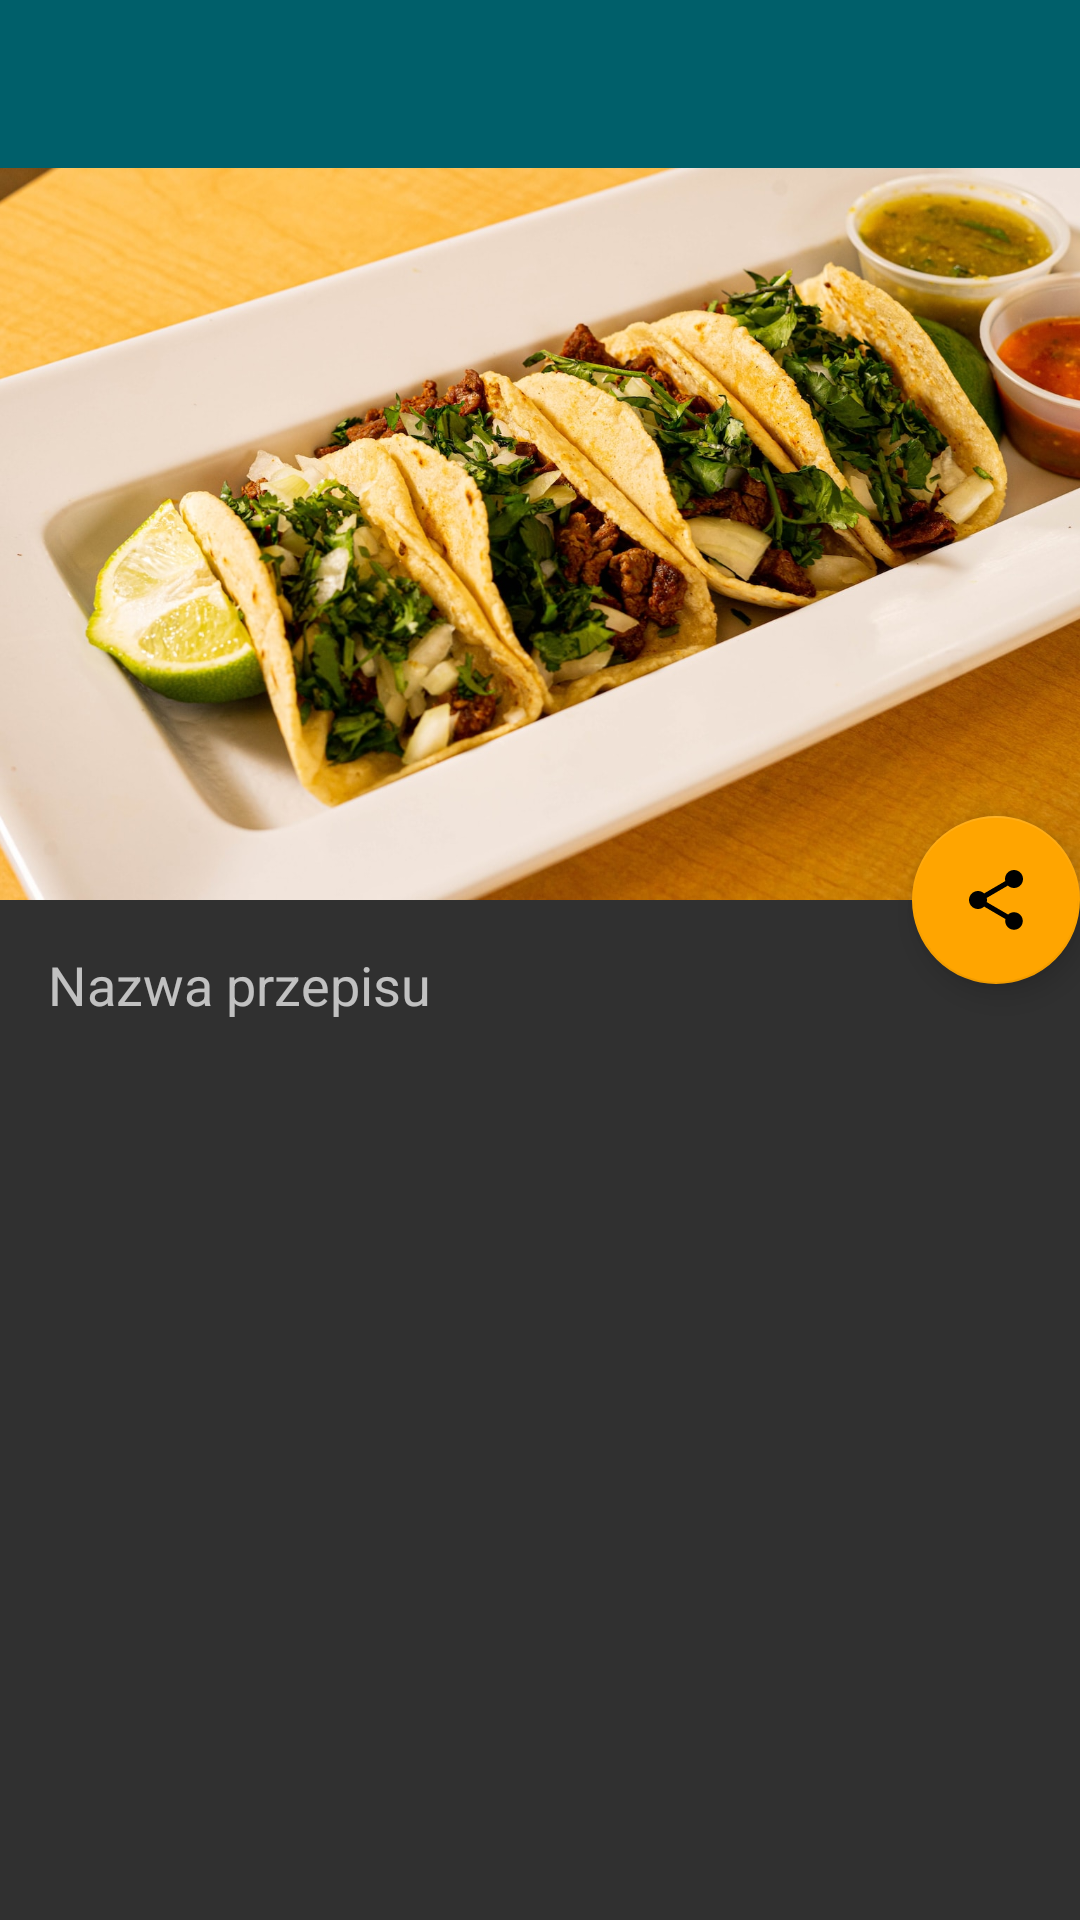

Icon click points for this 1080px×1920px phone screenshot, format point (x, y):
Udostępnij: point (996, 900)
